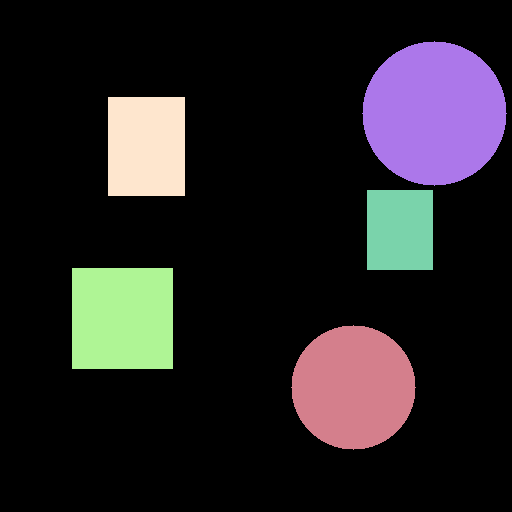circle: (362, 41, 506, 185), (291, 325, 415, 449)
rectangle: (108, 97, 184, 195), (367, 190, 432, 269)
square: (72, 268, 172, 368)
